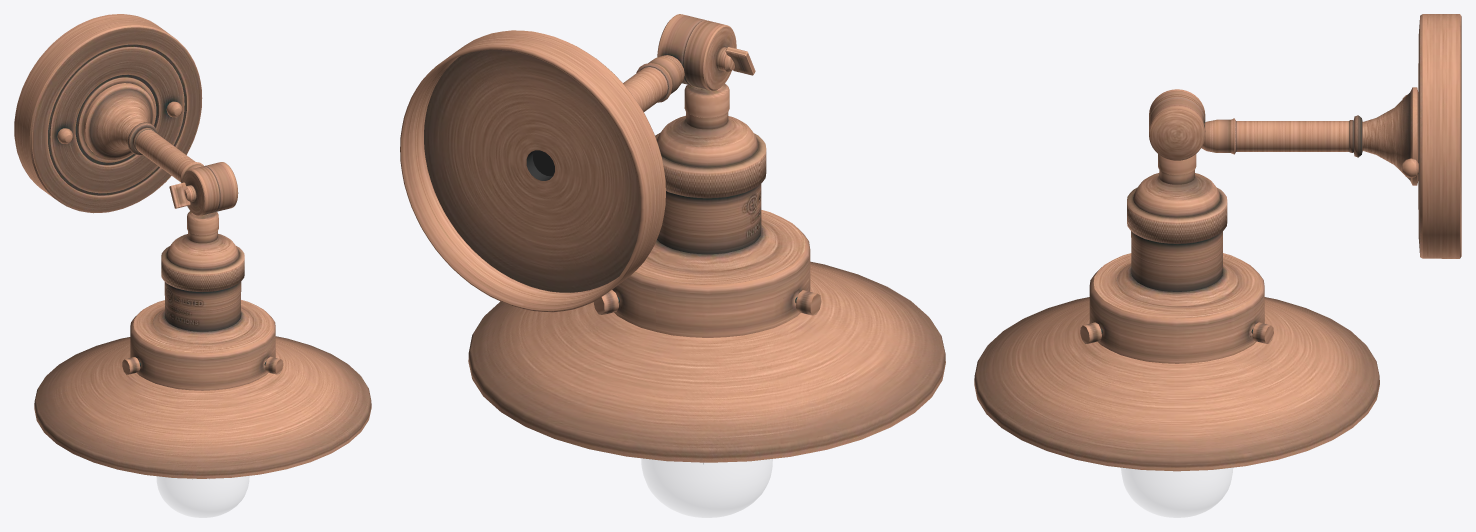
The model's file is wandlampe.gltf.
3 renders of one model, left to right at view 1: azimuth 30°, elevation 25°; view 2: azimuth 150°, elevation 25°; view 3: azimuth 270°, elevation 25°, orthographic. The views are drawn at different scales.
Parts seen in each view (by area): view 1: Lamp Metal, Lamp Glass; view 2: Lamp Metal, Lamp Glass; view 3: Lamp Metal, Lamp Glass.
Part boxes in pixels (left/top/right/bottom): Lamp Metal: left=14, top=14, right=371, bottom=479; Lamp Glass: left=157, top=476, right=249, bottom=517; Lamp Metal: left=400, top=14, right=945, bottom=464; Lamp Glass: left=641, top=458, right=772, bottom=517; Lamp Metal: left=974, top=14, right=1461, bottom=471; Lamp Glass: left=1121, top=468, right=1232, bottom=517.
Size of the model in its own units: 0.1908 by 0.2552 by 0.2265.
Materials: 3 (1 with a texture image).
